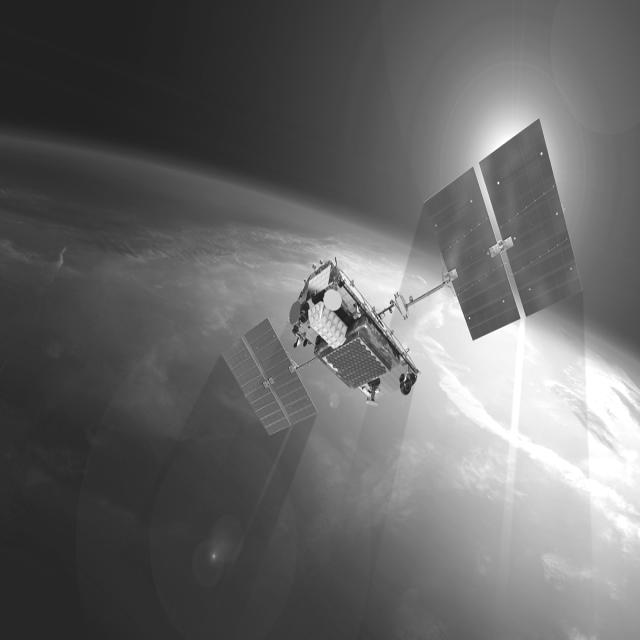satellite: (223, 106, 599, 458)
